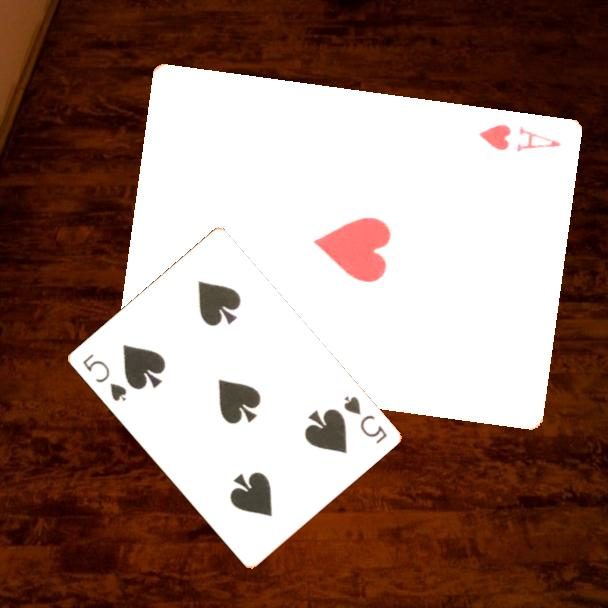h01: (474, 121, 563, 156)
s05: (339, 392, 390, 447), (79, 350, 129, 404)
